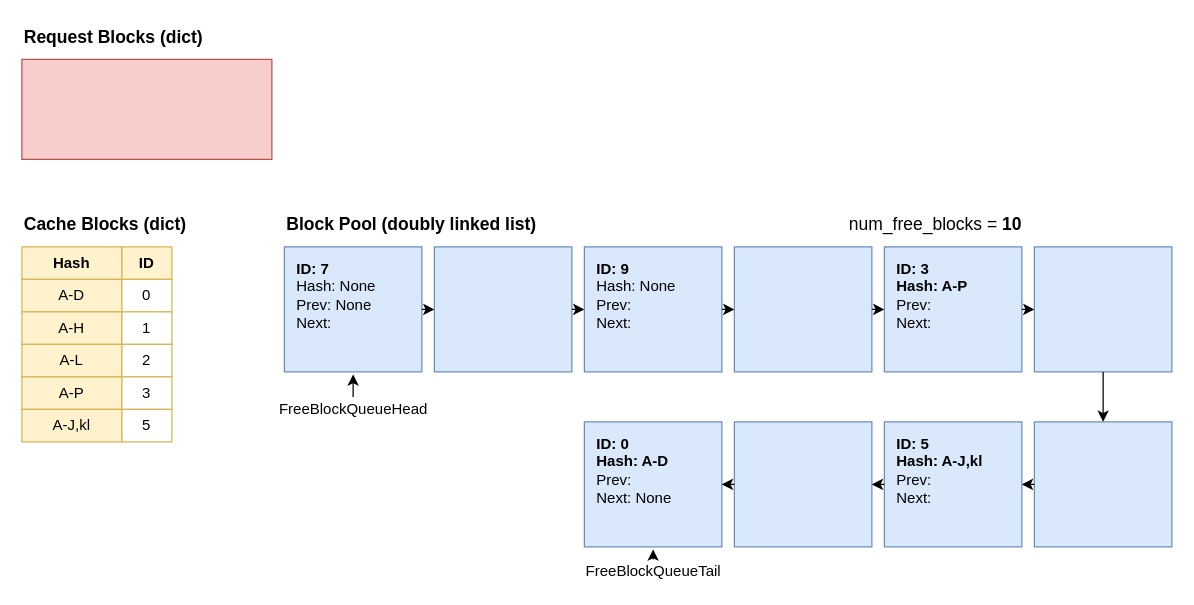
This 1194x605 diagram has some shape labels left out. Each missing label, with the centre of its shape:
"ID: 1 Hash: A-H Prev: Next:" goes at [802,484].
"ID: 2 Hash: A-L Prev: Next:" goes at [1102,309].
"ID: 4 Hash: None Prev: Next:" goes at [802,309].
"ID: 6 Hash: None Prev: Next:" goes at [1102,484].
"ID: 8 Hash: None Prev: Next:" goes at [502,309].
